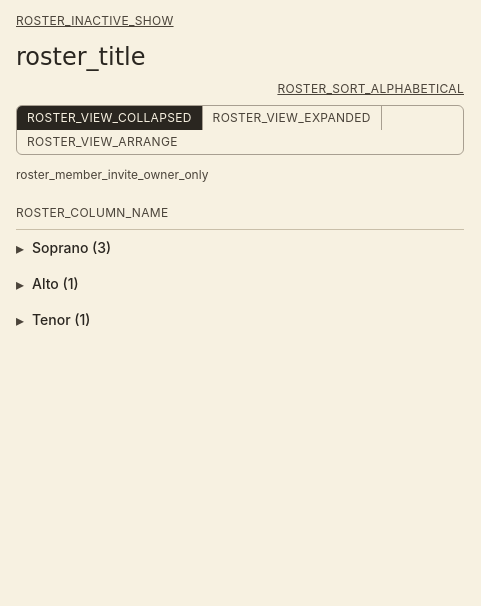
/roster — a failed reparent reports WHAT ACTUALLY LANDED, with the evidence captured (#253) › state (a) — the reparent ITSELF fails: under the #264 atomic contract this NOW MEANS nothing landed (the rejected POST carried the old value id, so the server c
The width and height of the screenshot is (481, 606).
What coordinates should you click on to do the following:
click the button "roster_view_arrange"
I would click on:
 (102, 142)
Its box is [17,130,188,154].
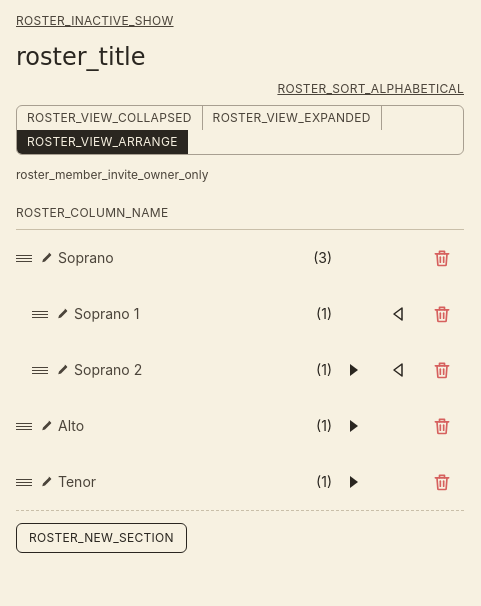
What coordinates should you click on to do the following:
click the button named "roster_section_indent {\"name\":\"Alto\"}"
I would click on:
 (354, 426)
Its box is [332,404,376,448].
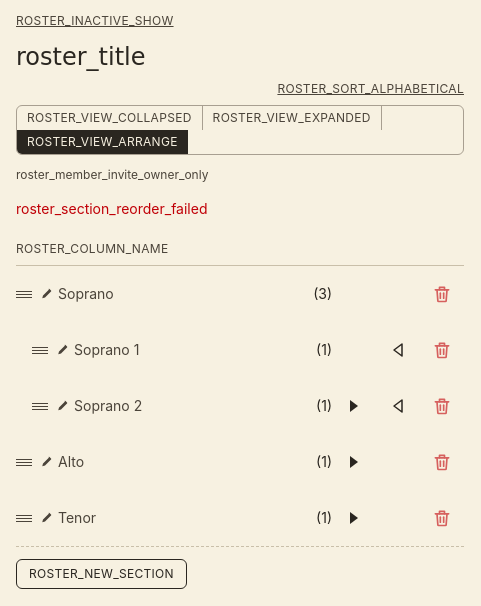
Result: the message "roster_section_reorder_failed" is shown at [16,200,208,217]
